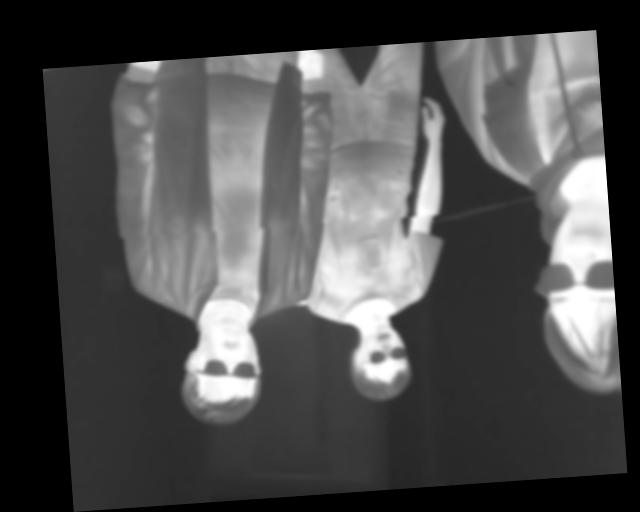face: (534, 204, 620, 399), (176, 315, 266, 428), (345, 317, 415, 404)
